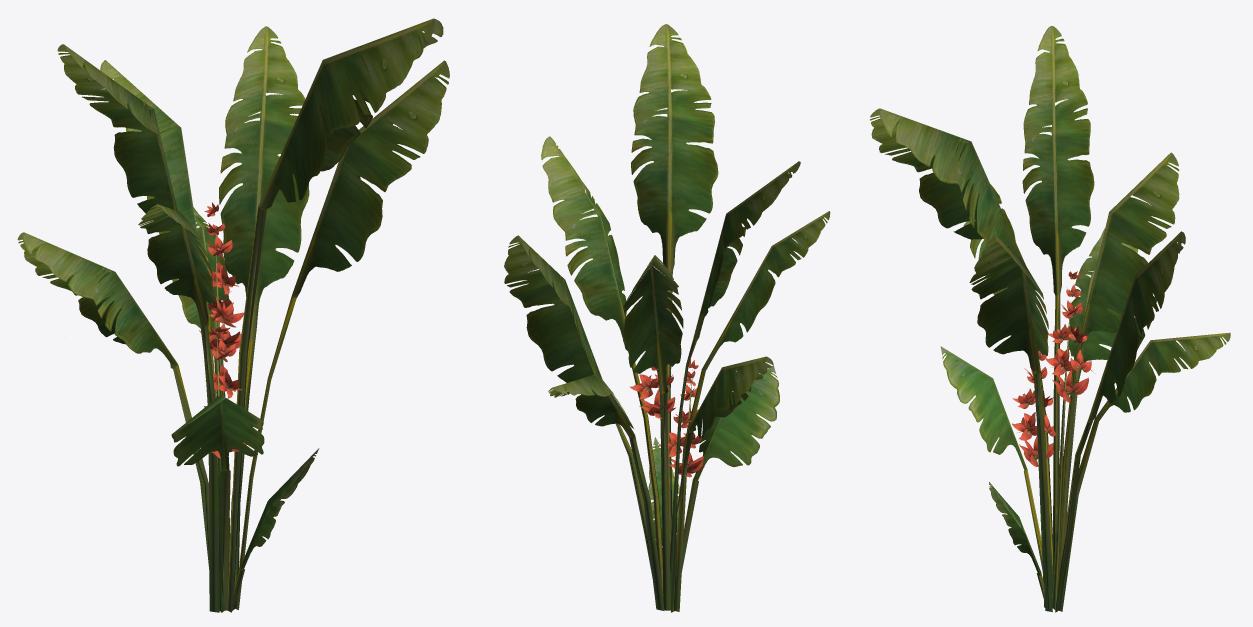
Rendered from wm_灌木长芭蕉01.fbx.
The picture shows the model from 3 angles, left to right: view 1: azimuth 30°, elevation 25°; view 2: azimuth 150°, elevation 25°; view 3: azimuth 270°, elevation 25°; orthographic projection. The views are drawn at different scales.
Visible parts, largest first — view 1: wm_灌木长芭蕉01; view 2: wm_灌木长芭蕉01; view 3: wm_灌木长芭蕉01.
Boxes of the visible parts, x1,y1,x2,y2 form: wm_灌木长芭蕉01: (17,18,449,612); wm_灌木长芭蕉01: (504,24,830,612); wm_灌木长芭蕉01: (870,26,1230,612).
Size of the model in its own units: 390 by 659 by 407.
